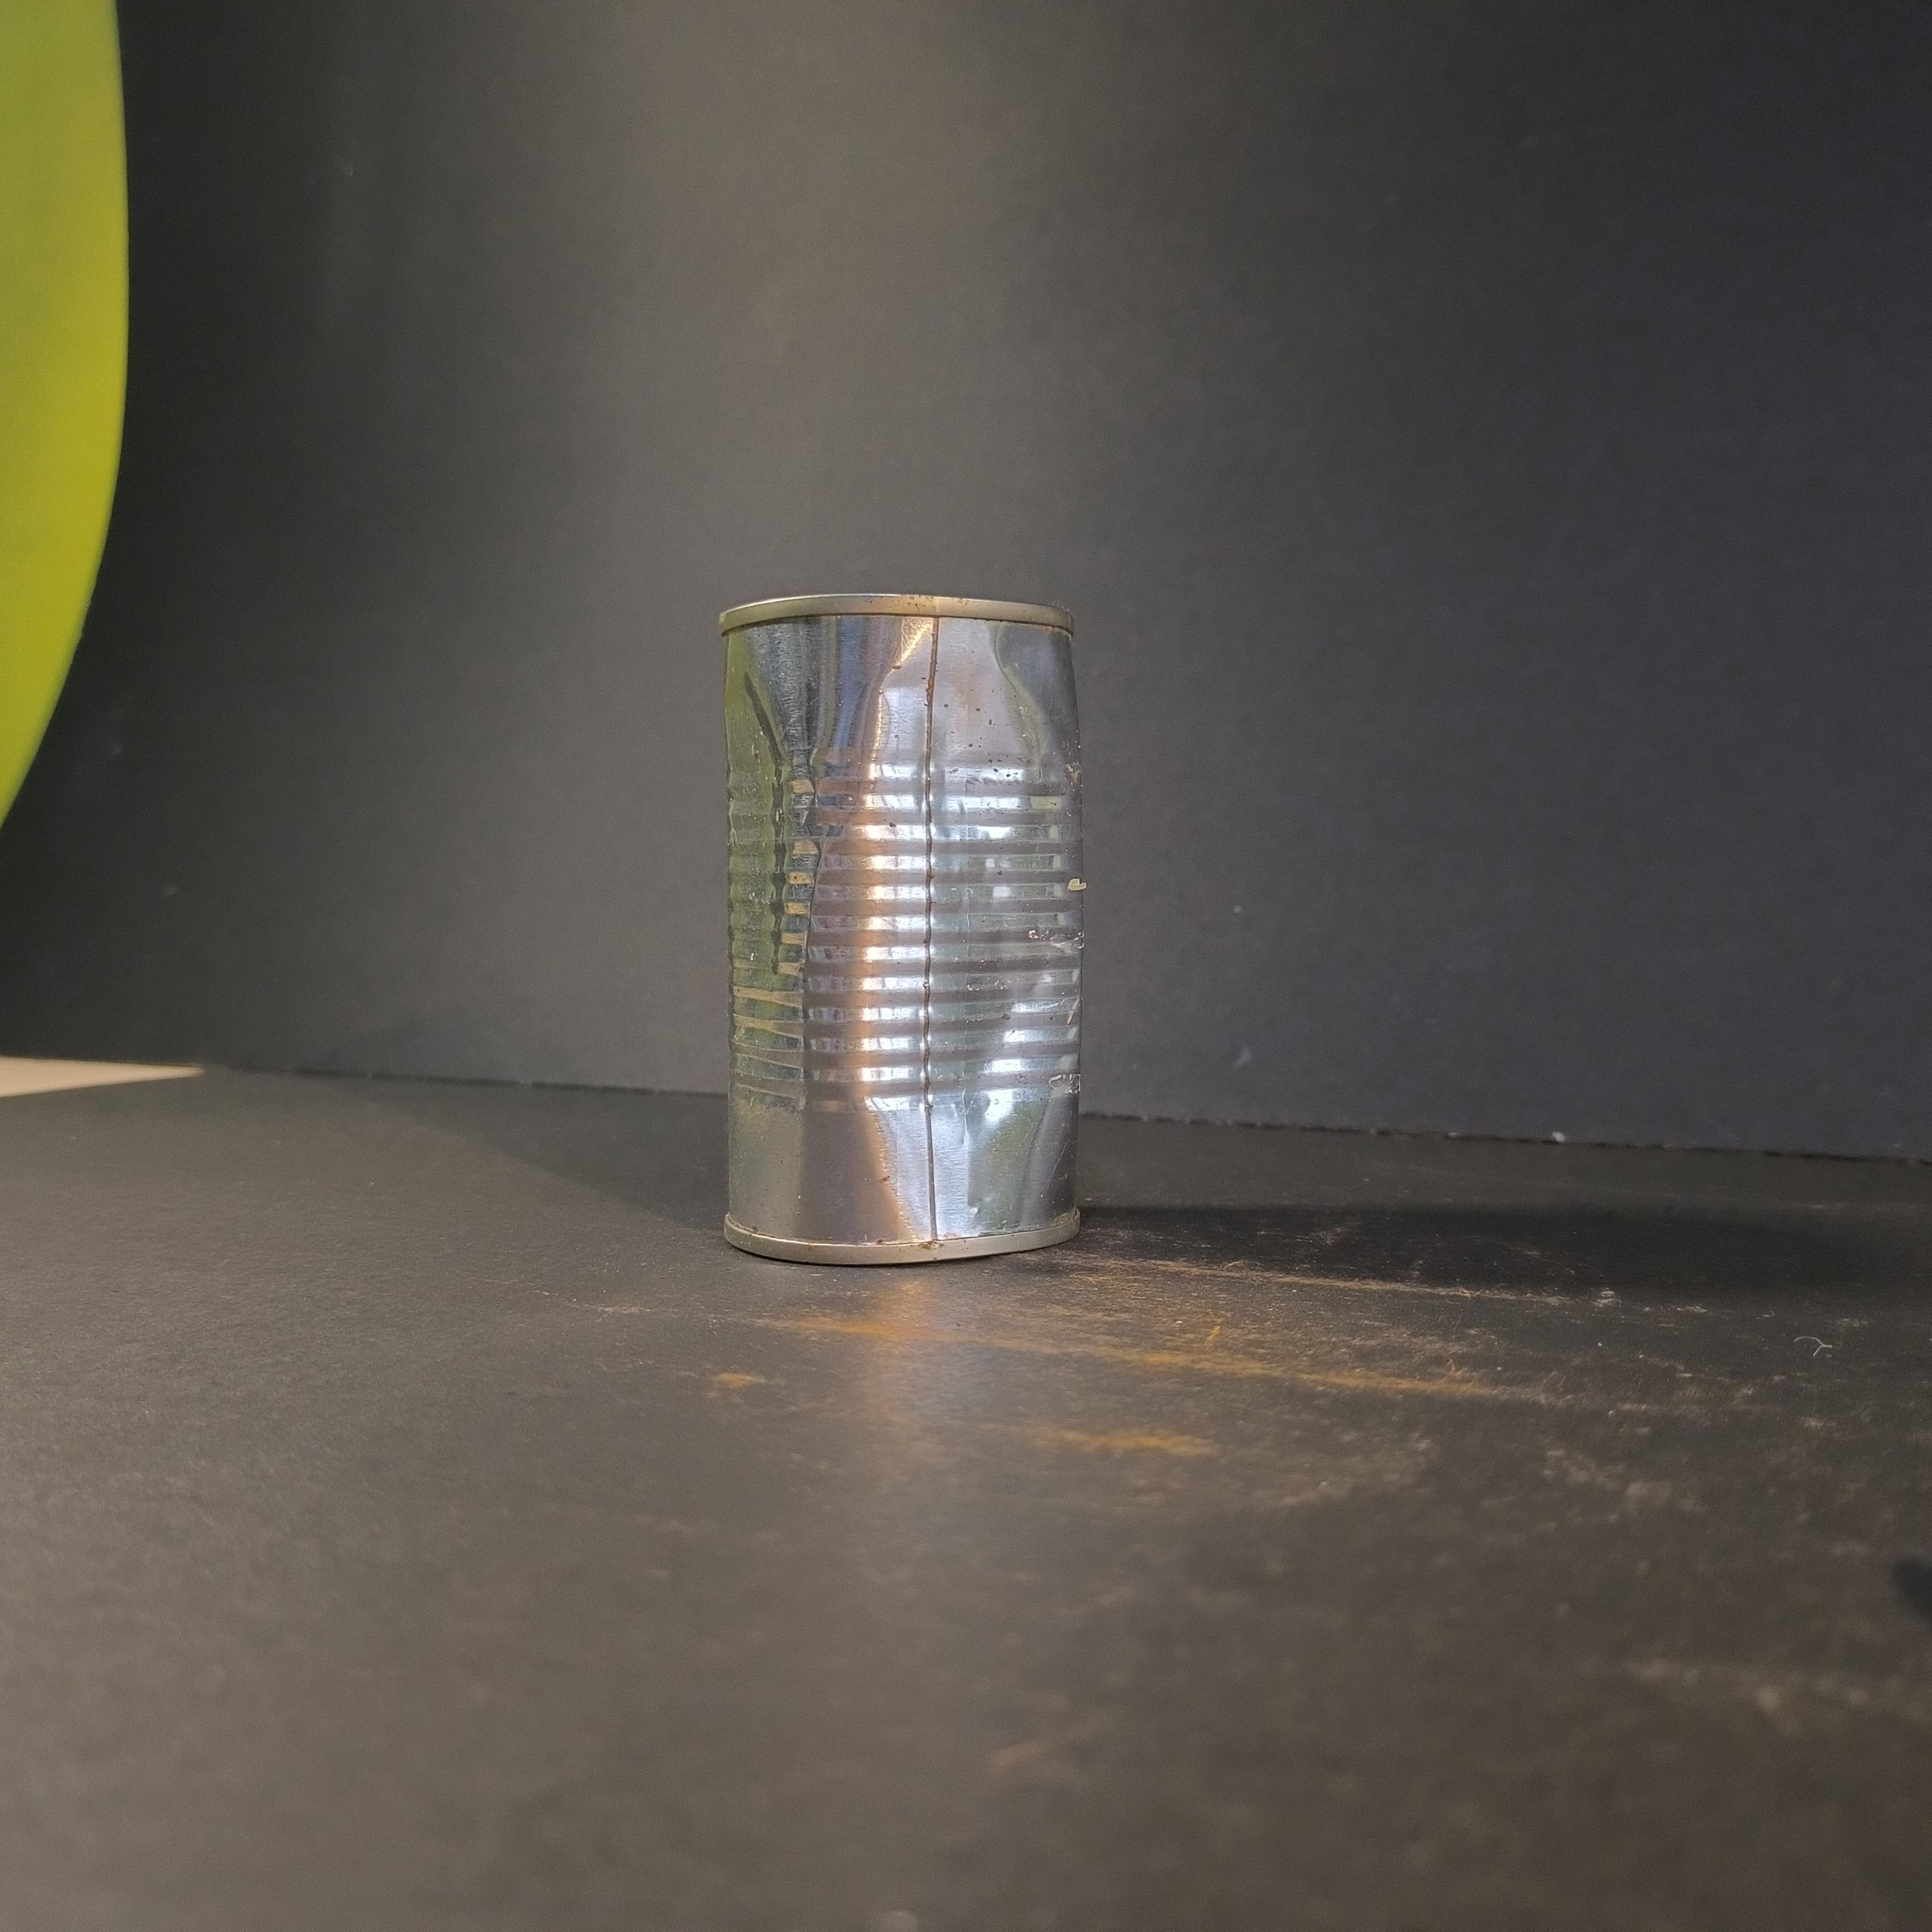Dented: (699, 564, 1109, 1277)
